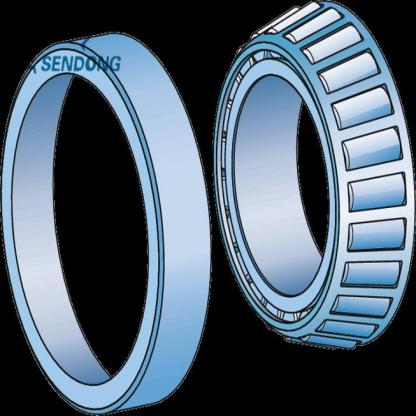FOD: (1, 4, 415, 415)
